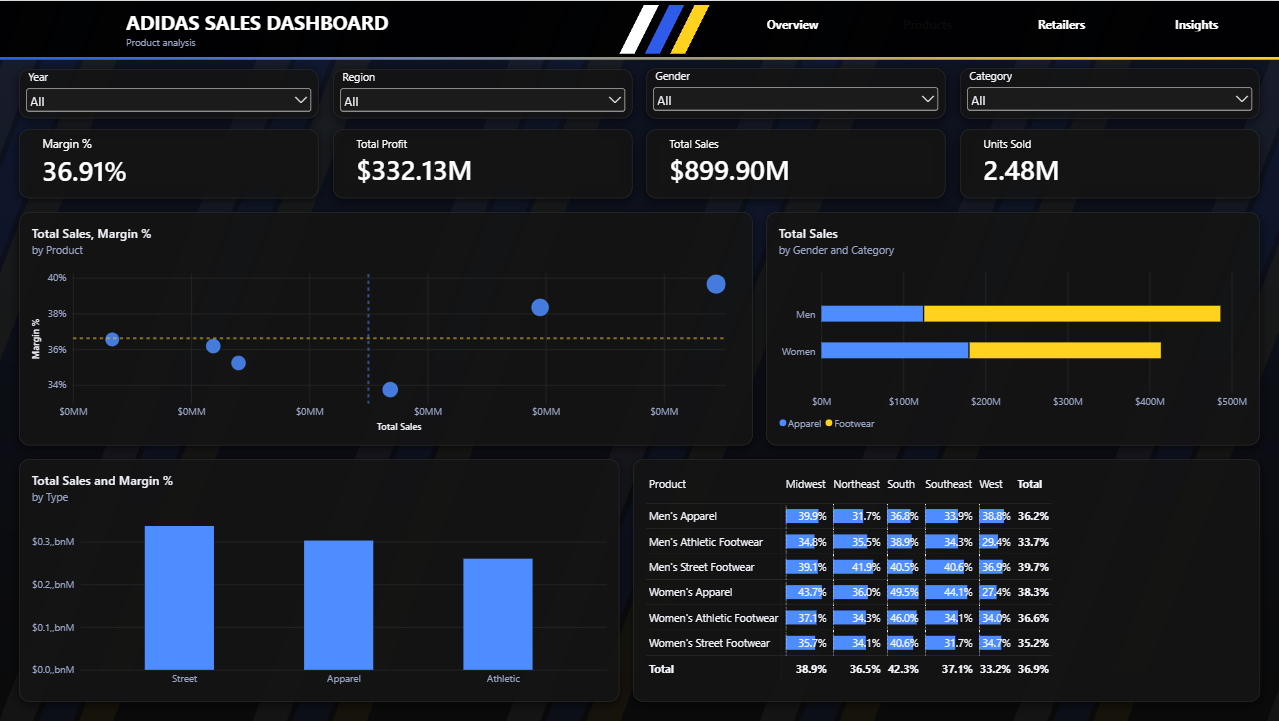

Layout of this report page (visuals, bound fields, positions):
{"tool":"powerbi","page":{"name":"Product analysis","canvas":[1920,1080],"ordinal":1},"visuals":[{"type":"slicer","fields":{"Values":["Fact_Sales.Category"]},"box":[1440,100.7,449.4,75.9],"z":0},{"type":"cardVisual","fields":{"Data":["_Measures.Margin %"]},"box":[30.6,192.6,449.4,103.6],"z":1000},{"type":"cardVisual","fields":{"Data":["_Measures.Units Sold"]},"box":[1440,192.6,449.4,103.6],"z":2000},{"type":"cardVisual","fields":{"Data":["_Measures.Total Profit"]},"box":[500.4,192.6,449.4,103.6],"z":3000},{"type":"cardVisual","fields":{"Data":["_Measures.Total Sales"]},"box":[970.2,192.6,449.4,103.6],"z":4000},{"type":"slicer","fields":{"Values":["Fact_Sales.Gender"]},"box":[970.2,100.7,449.4,75.9],"z":5000},{"type":"slicer","fields":{"Values":["Fact_Sales.Region"]},"box":[500.4,102.1,449.4,74.4],"z":6000},{"type":"scatterChart","title":"Total Sales, Margin % ","fields":{"Category":["Fact_Sales.Product"],"Size":["_Measures.Total Profit"],"X":["_Measures.Total Sales"],"Y":["_Measures.Margin %"]},"box":[30,316,1100,350],"z":7000},{"type":"barChart","fields":{"Category":["Fact_Sales.Gender"],"Series":["Fact_Sales.Category"],"Y":["Sum(Fact_Sales.Total Sales)"]},"box":[1150,316,740,350],"z":8000},{"type":"columnChart","fields":{"Category":["Fact_Sales.Type"],"Y":["_Measures.Total Sales"]},"box":[30,686,900,364],"z":9000},{"type":"pivotTable","fields":{"Columns":["Fact_Sales.Region"],"Rows":["Fact_Sales.Product"],"Values":["_Measures.Margin %"]},"box":[950,686,940,364],"z":10000},{"type":"textbox","box":[190,12,720,62],"z":11000},{"type":"slicer","fields":{"Values":["Dim_Date.Year"]},"box":[30.6,102.1,449.4,74.4],"z":16000},{"type":"pageNavigator","box":[1104.4,17.5,800,50],"z":16001}]}

Visuals, with their boxes in screenshot pixels (x1, y1, x2, y2), scaled from the page's 1920x1080 canvas onto the 1279x721 screenshot:
slicer - Fact_Sales.Category: BBox(959, 67, 1259, 118)
cardVisual - _Measures.Margin %: BBox(20, 129, 320, 198)
cardVisual - _Measures.Units Sold: BBox(959, 129, 1259, 198)
cardVisual - _Measures.Total Profit: BBox(333, 129, 633, 198)
cardVisual - _Measures.Total Sales: BBox(646, 129, 946, 198)
slicer - Fact_Sales.Gender: BBox(646, 67, 946, 118)
slicer - Fact_Sales.Region: BBox(333, 68, 633, 118)
"Total Sales, Margin % " scatterChart: BBox(20, 211, 753, 445)
barChart - Fact_Sales.Gender x Fact_Sales.Category: BBox(766, 211, 1259, 445)
columnChart - Fact_Sales.Type x _Measures.Total Sales: BBox(20, 458, 620, 701)
pivotTable - Fact_Sales.Region x Fact_Sales.Product: BBox(633, 458, 1259, 701)
textbox: BBox(127, 8, 606, 49)
slicer - Dim_Date.Year: BBox(20, 68, 320, 118)
pageNavigator: BBox(736, 12, 1269, 45)
